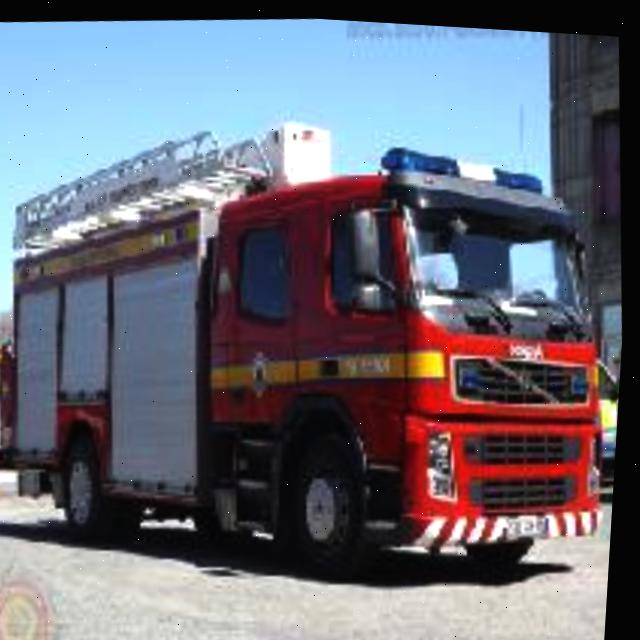emergency: (0, 110, 632, 608)
